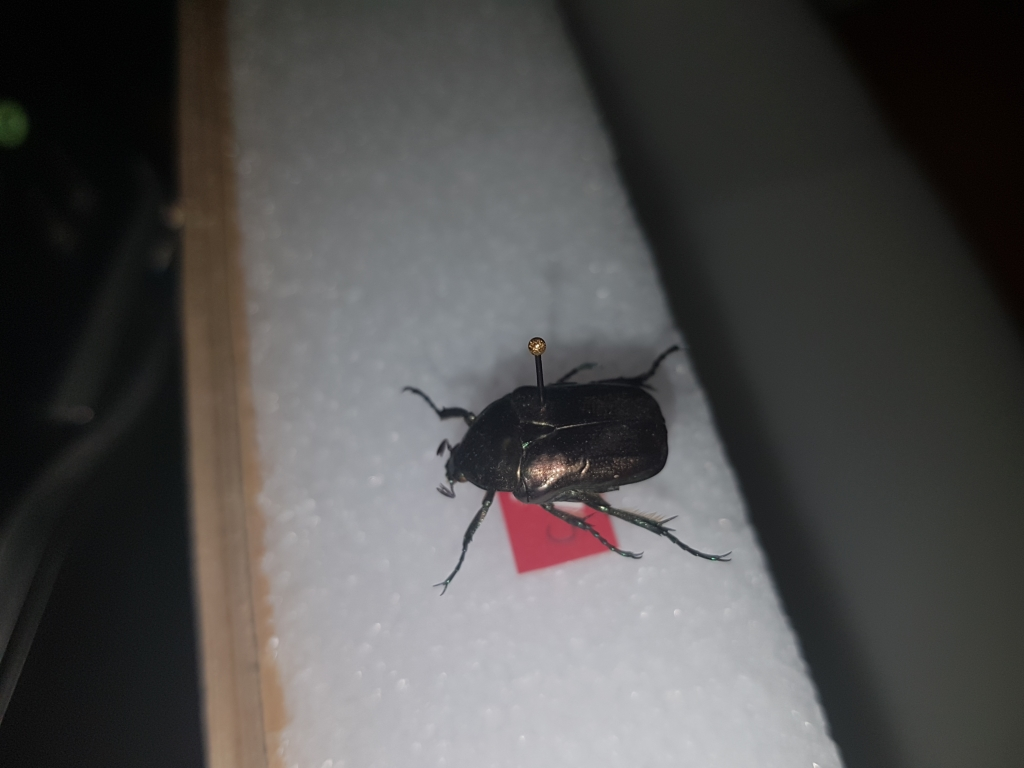Protaetia_besucheti: (382, 333, 749, 604)
